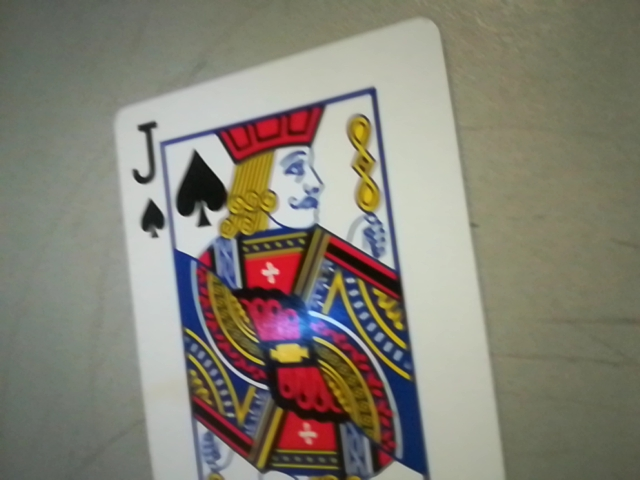ht j: (121, 112, 174, 241)
